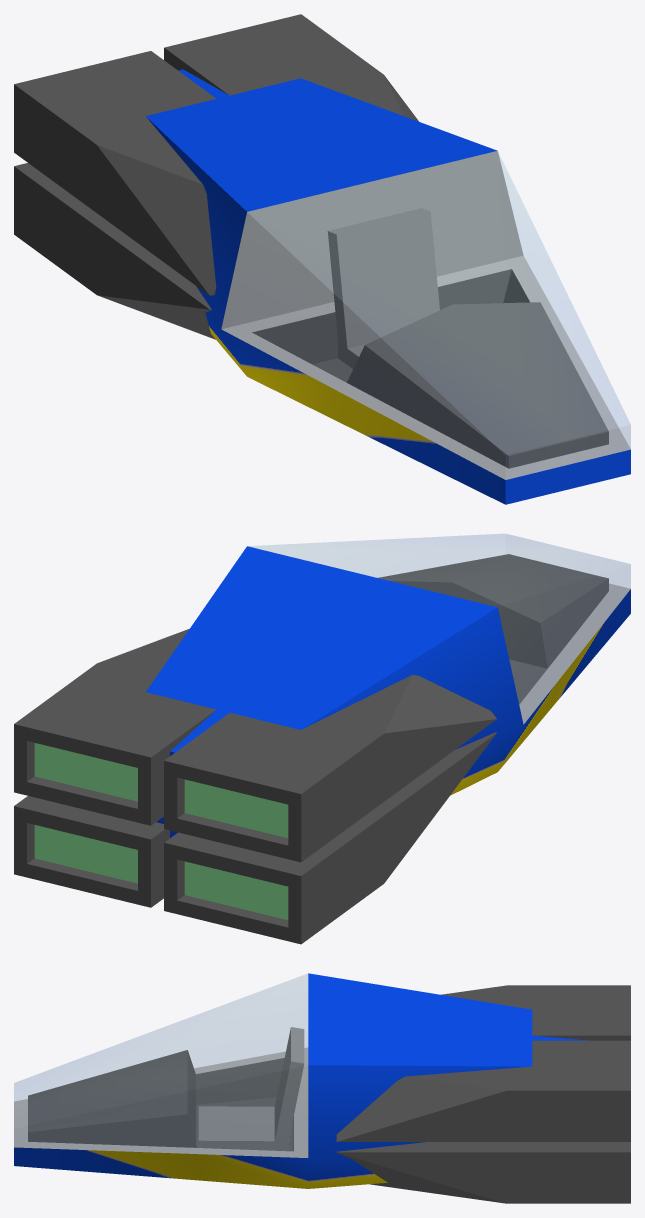
File: BlueFox.fbx
3 renders of one model, top to bottom at view 1: azimuth 30°, elevation 25°; view 2: azimuth 150°, elevation 25°; view 3: azimuth 270°, elevation 25°, orthographic. The views are drawn at different scales.
Visible parts, largest first — view 1: BlueFox; view 2: BlueFox; view 3: BlueFox.
Part boxes in pixels (x1,y1,x2,y2): BlueFox: [14, 14, 630, 504]; BlueFox: [14, 534, 630, 944]; BlueFox: [14, 973, 630, 1203].
Size of the model in its own units: 232 by 128 by 545.
2 materials, 2 textured.
